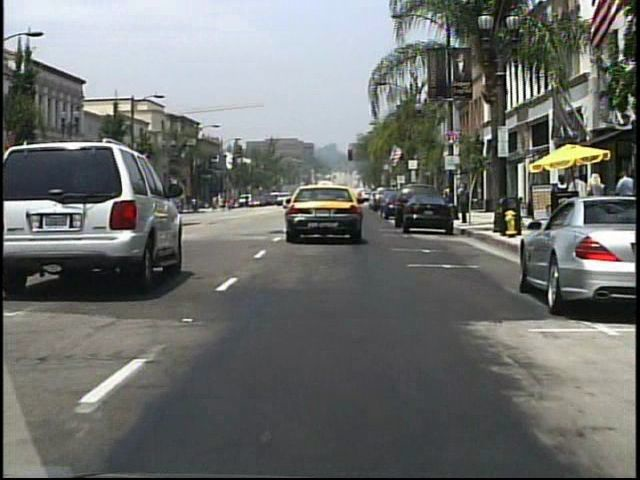person: (613, 170, 636, 229), (585, 170, 608, 225), (567, 170, 589, 226), (549, 173, 569, 226), (244, 193, 251, 208)
